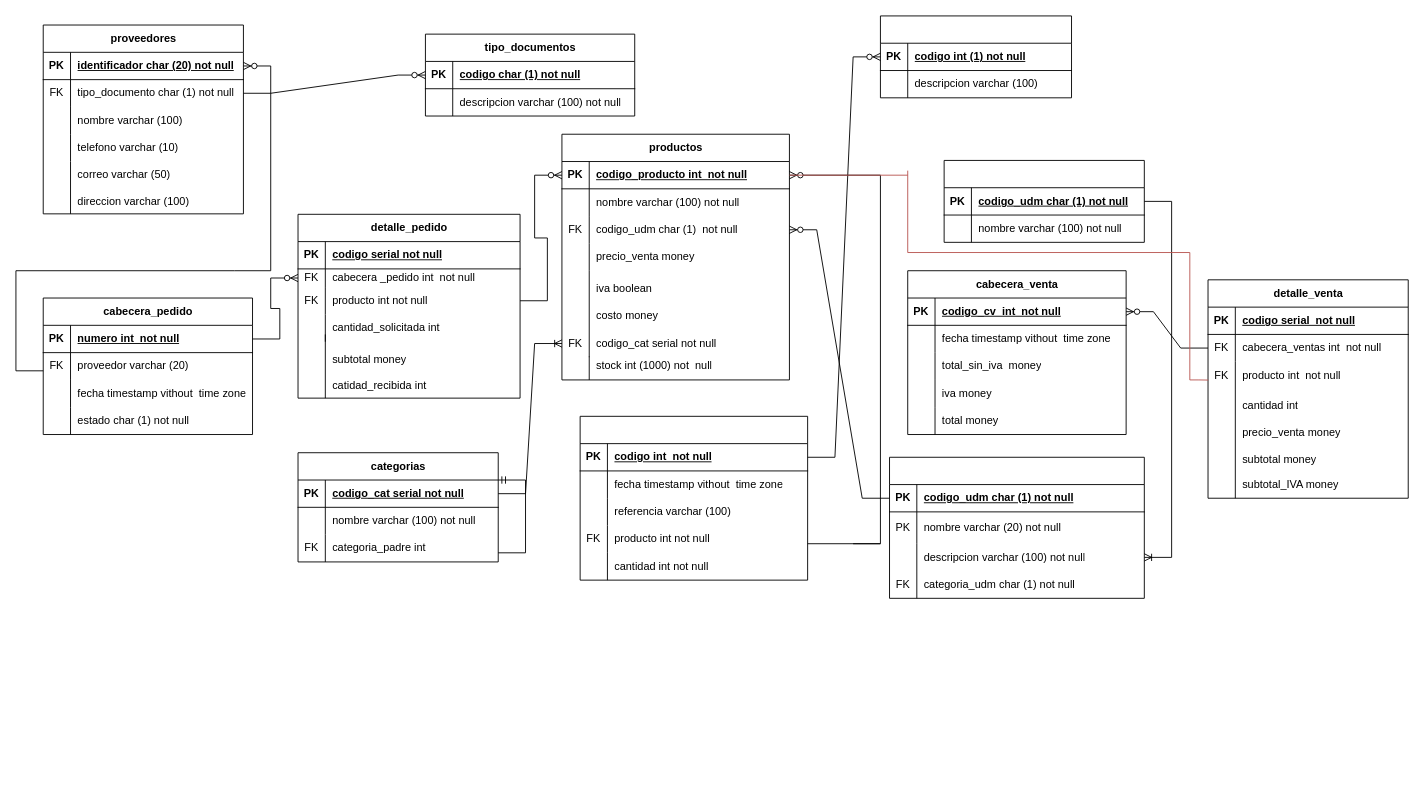
This 1424x805 diagram has some shape labels left out. Each missing label, with the box of its shape:
categorias_unidad_medida: (943, 160, 1144, 242)
estado_pedido: (880, 15, 1072, 98)
historial_stock: (579, 415, 808, 580)
unidades_medida: (889, 456, 1144, 598)
